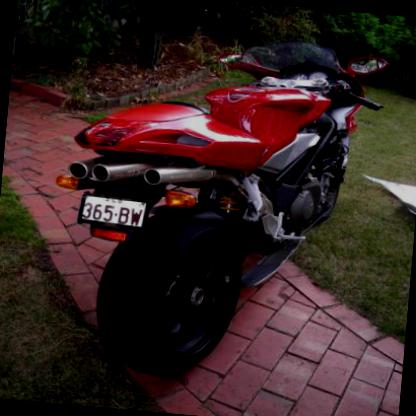motorcycle: (42, 28, 379, 386)
